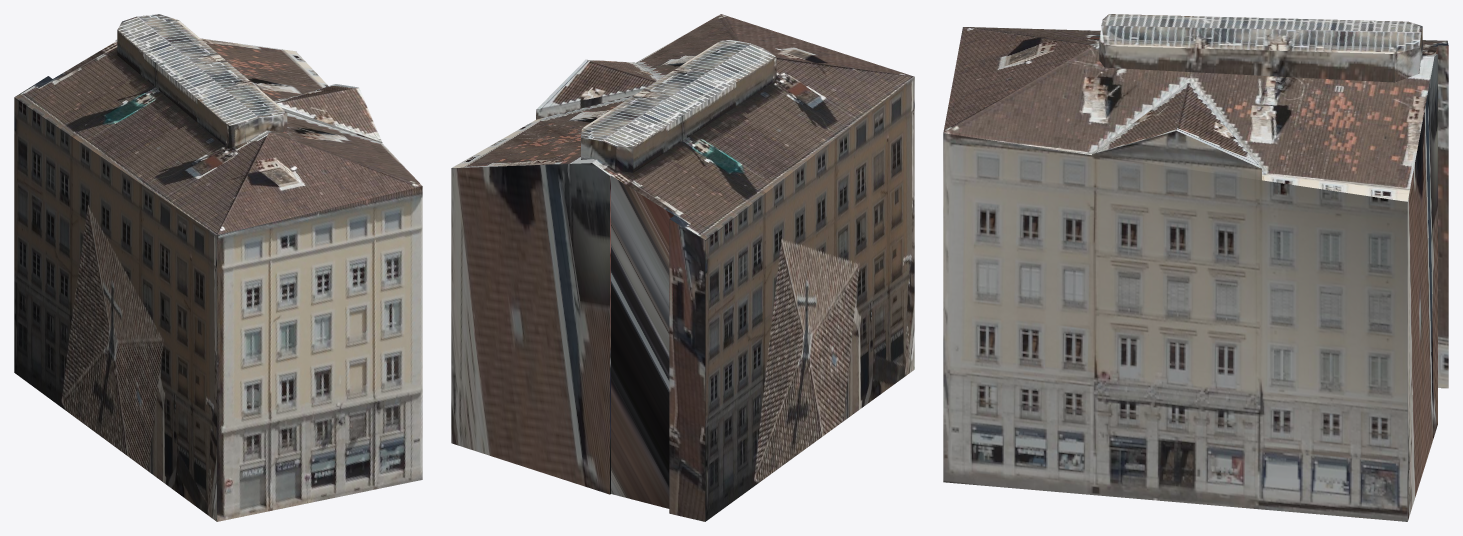
3 renders of one model, left to right at view 1: azimuth 30°, elevation 25°; view 2: azimuth 150°, elevation 25°; view 3: azimuth 270°, elevation 25°, orthographic. The views are drawn at different scales.
Visible parts, largest first — view 1: Z_UP; view 2: Z_UP; view 3: Z_UP.
Boxes of the visible parts, x1,y1,x2,y2 form: Z_UP: (14,14,422,521); Z_UP: (451,14,914,521); Z_UP: (943,14,1448,521).
Size of the model in its own units: 22.72 by 27.5 by 31.43.
Materials: 2 (1 with a texture image).
